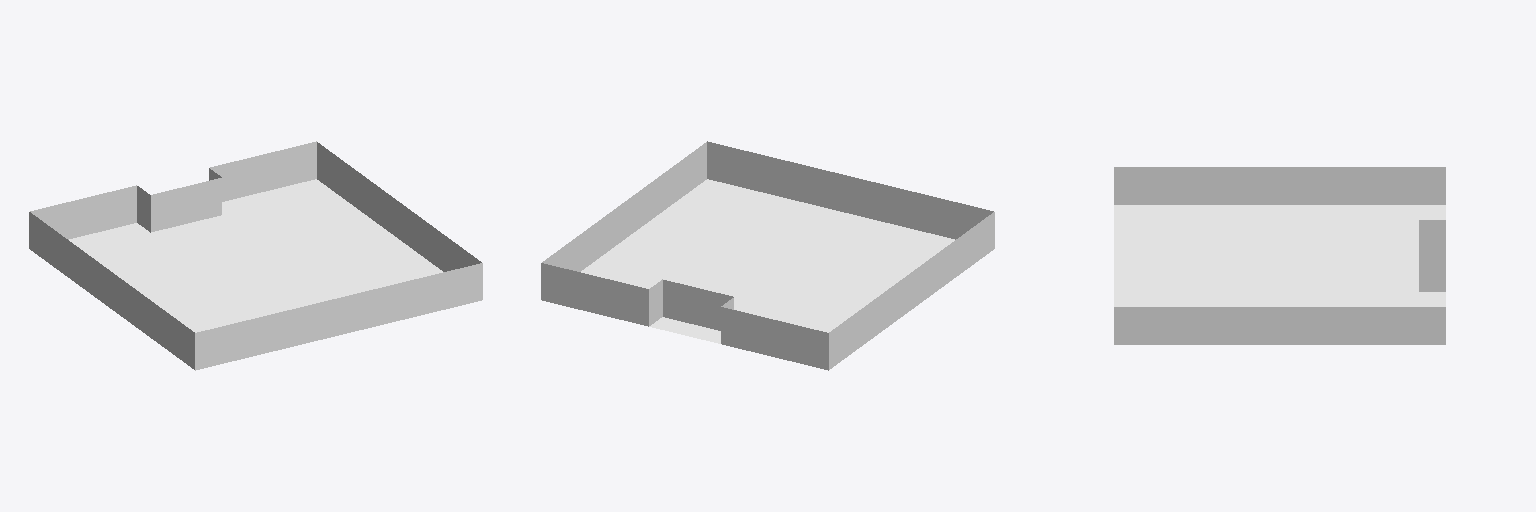
File: muzeum_13.obj
3 views of the same model, side by side, from view 1: azimuth 30°, elevation 25°; view 2: azimuth 150°, elevation 25°; view 3: azimuth 270°, elevation 25° (orthographic).
Visible parts, largest first — view 1: Cube.001; view 2: Cube.001; view 3: Cube.001.
Part boxes in pixels (bbox=[...]): Cube.001: bbox=[29, 141, 482, 370]; Cube.001: bbox=[541, 141, 994, 370]; Cube.001: bbox=[1114, 167, 1445, 344].
Bounding box in the file's own units: 24.2 × 3.02 × 24.2.